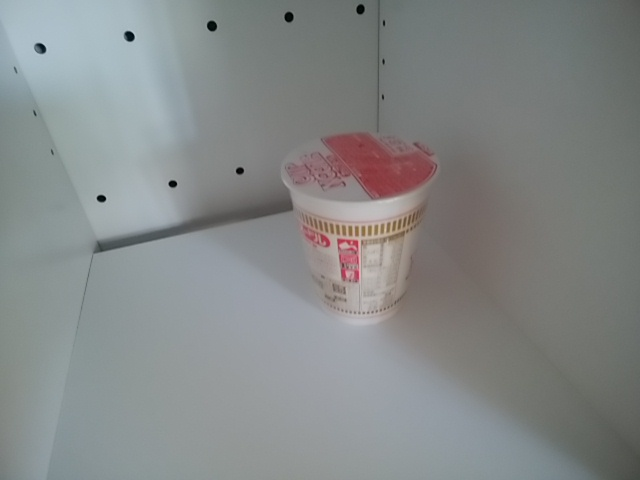cup-ramen: (276, 128, 446, 338)
